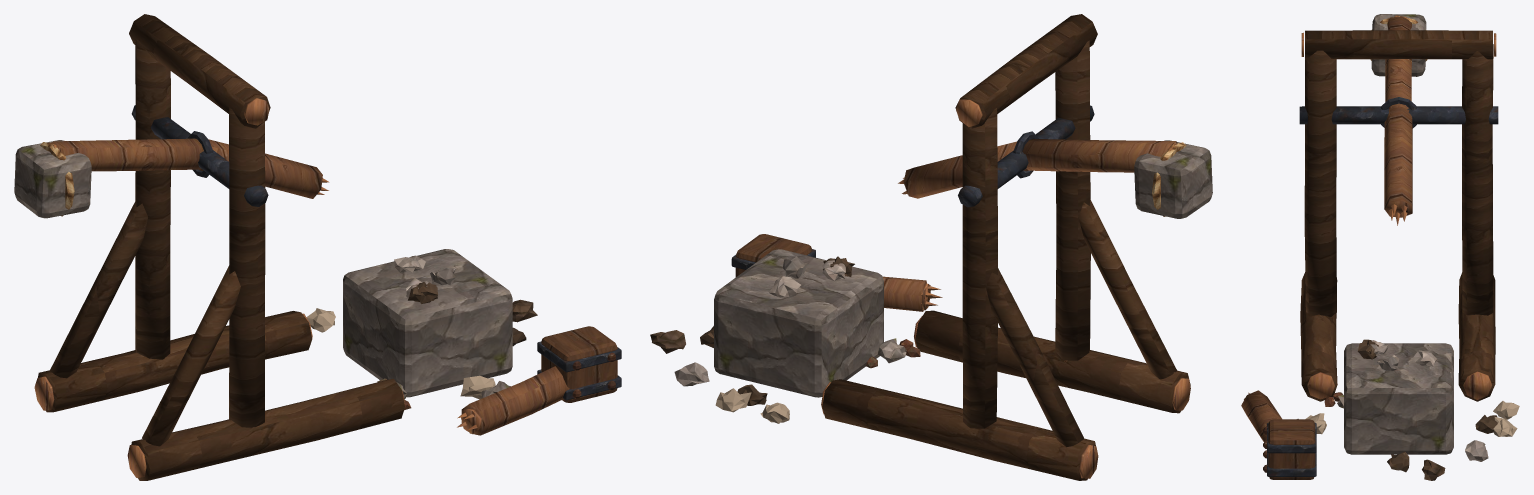
Rendered from ore_crusher_broken.glb.
3 views of the same model, side by side, from view 1: azimuth 30°, elevation 25°; view 2: azimuth 150°, elevation 25°; view 3: azimuth 270°, elevation 25° (orthographic). The views are drawn at different scales.
Parts seen in each view (by area): view 1: model; view 2: model; view 3: model.
Part boxes in pixels (x1,y1,x2,y2): model: [14, 14, 621, 480]; model: [650, 14, 1212, 480]; model: [1241, 14, 1519, 480].
Bounding box in the file's own units: 1.98 × 1.31 × 1.07.
Materials: 14 (13 with a texture image).
